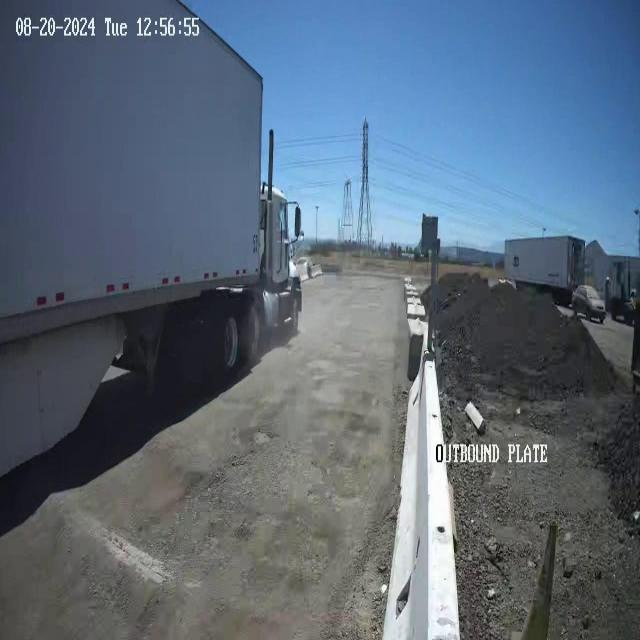TRUCK_CONTAINER: (1, 1, 304, 478)
